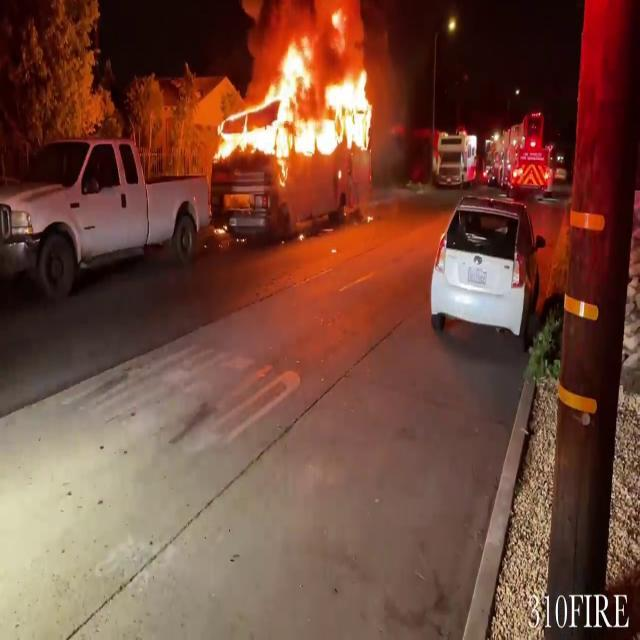Fire: (206, 9, 384, 172)
